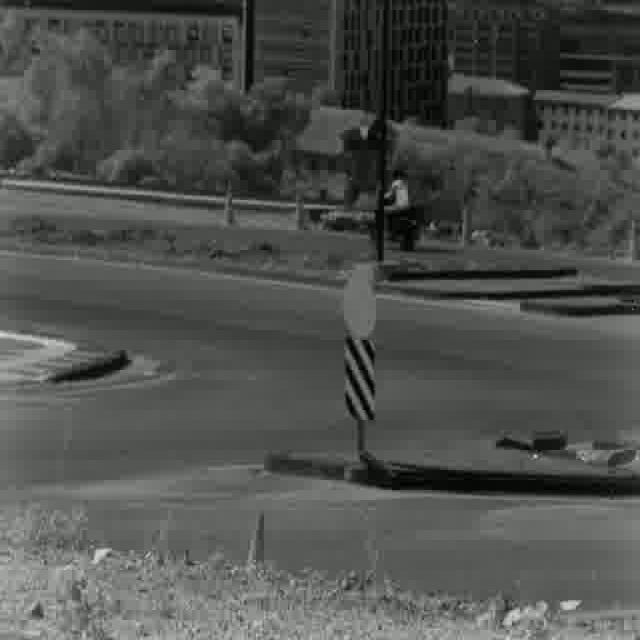Motorcycle: (368, 171, 420, 253)
